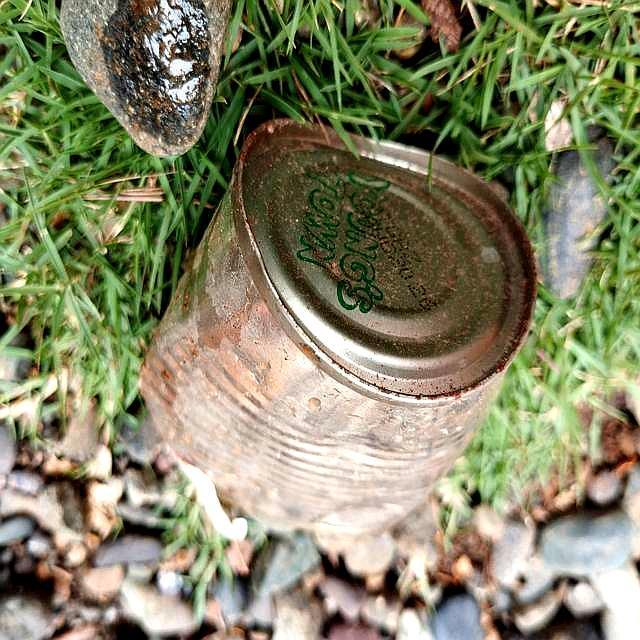Non-biodegradable: (135, 117, 541, 538)
